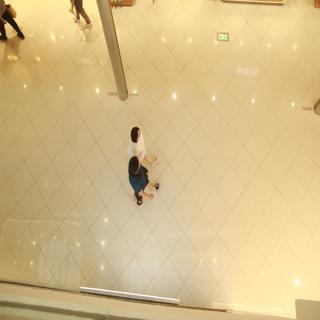person: (124, 120, 176, 169), (121, 155, 166, 210)
